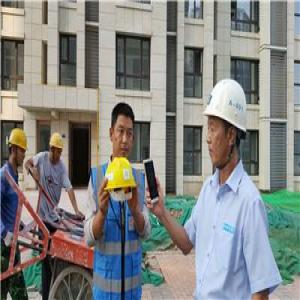none: (110, 102, 136, 164)
white: (205, 76, 249, 174)
yellow: (8, 124, 29, 172), (48, 130, 65, 165)
